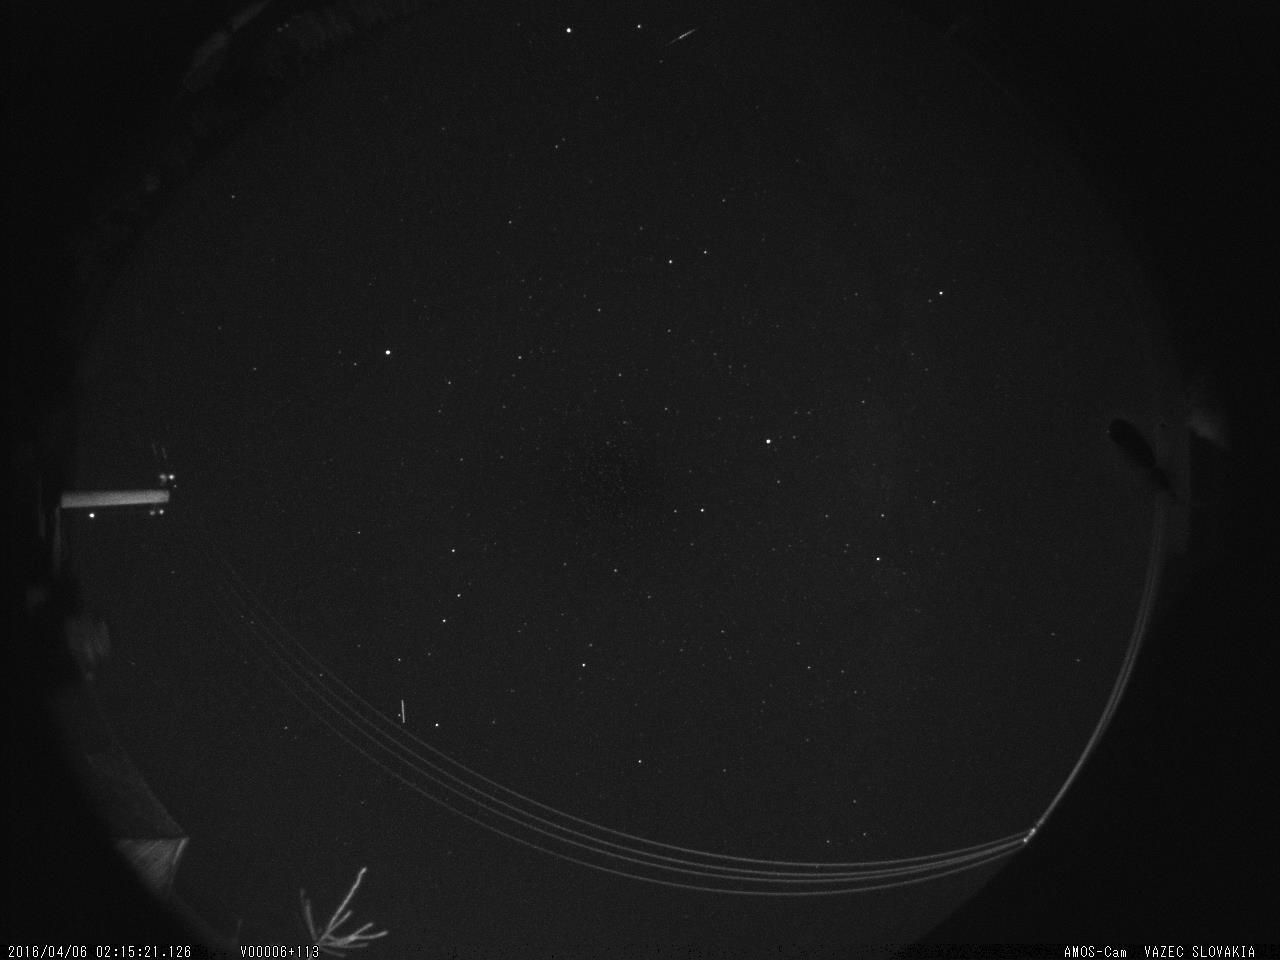Meteor: (658, 19, 706, 55)
